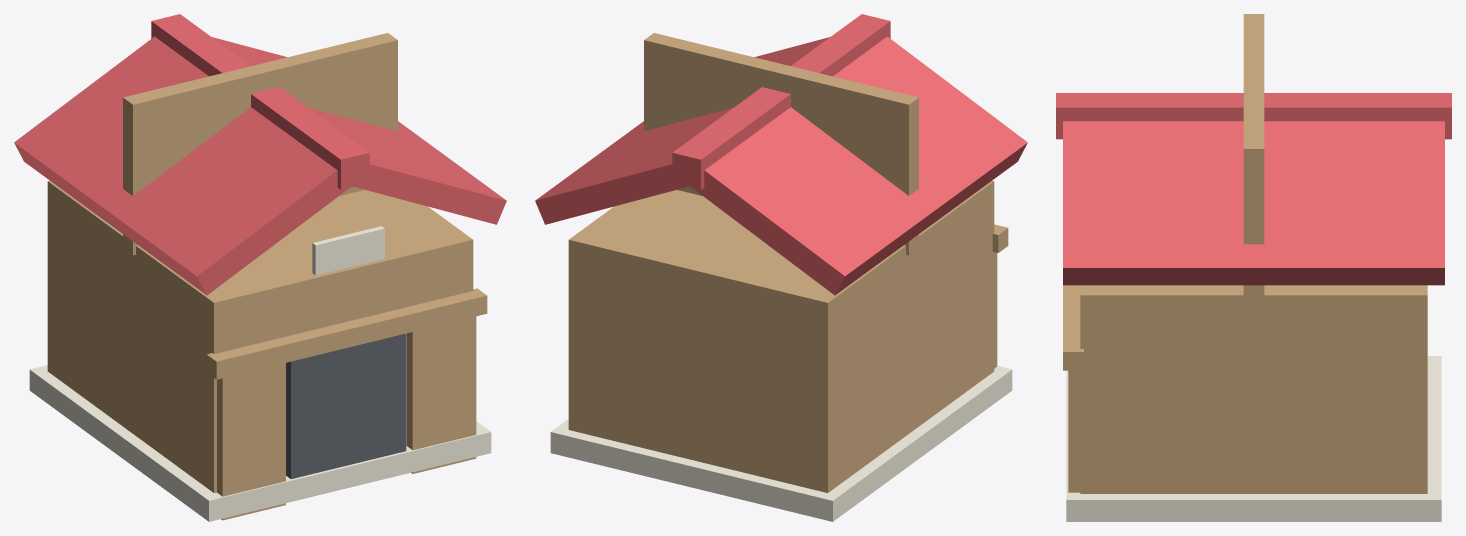
Rendered from lawn-mowing-simulator-kit-dog-kennel-a75aa0bc__27396.glb.
3 renders of one model, left to right at view 1: azimuth 30°, elevation 25°; view 2: azimuth 150°, elevation 25°; view 3: azimuth 270°, elevation 25°, orthographic. The views are drawn at different scales.
Parts seen in each view (by area): view 1: dog-kennel; view 2: dog-kennel; view 3: dog-kennel.
Boxes of the visible parts, <box> form: dog-kennel: <box>14,14,506,521</box>; dog-kennel: <box>535,14,1027,521</box>; dog-kennel: <box>1056,14,1451,521</box>.
Size of the model in its own units: 1.08 by 1.18 by 1.14.
